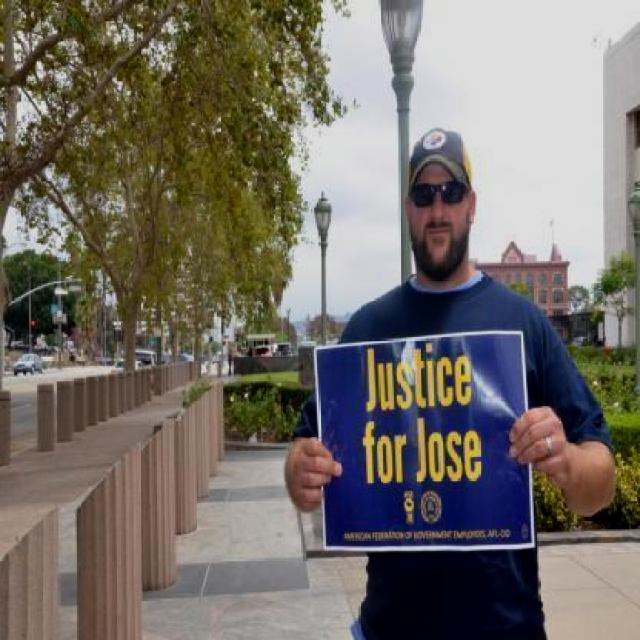glasses: (403, 169, 474, 223)
hand_noglove: (499, 404, 579, 482), (287, 433, 344, 510)
head_nohelmet: (412, 179, 468, 258), (406, 127, 474, 181)
person: (276, 140, 618, 640)
